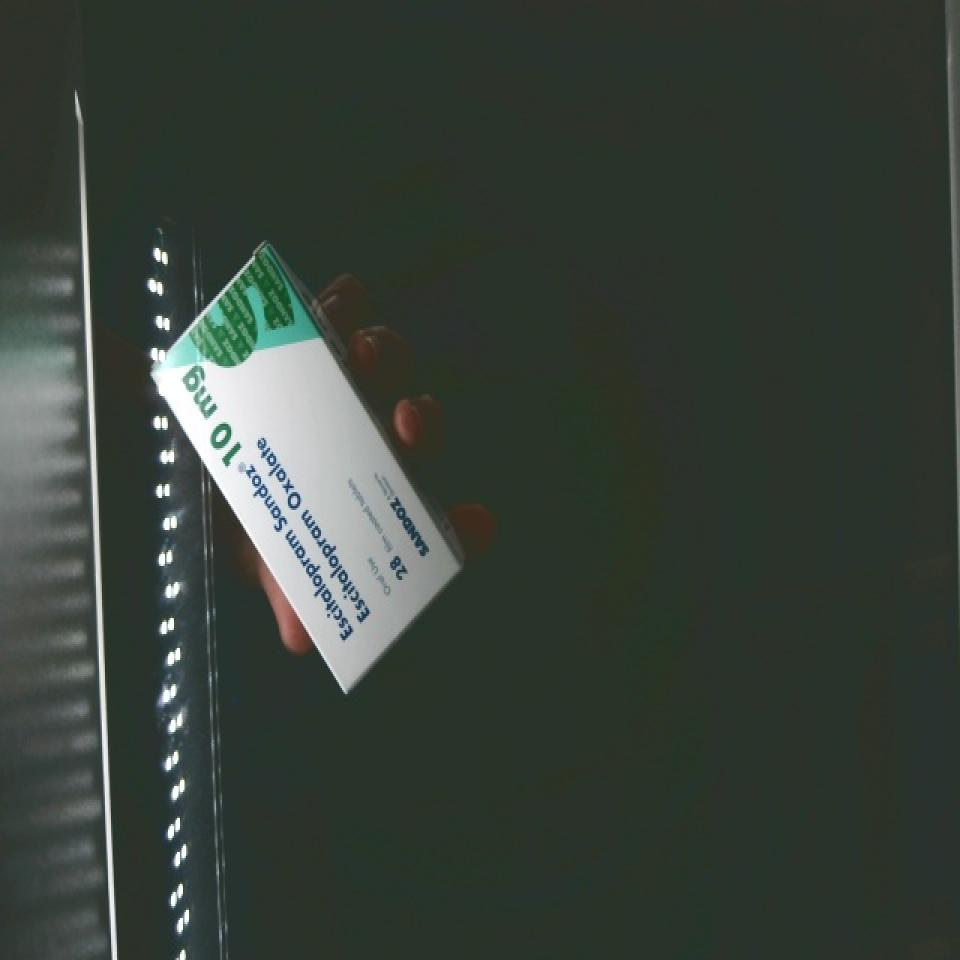medicine_box: (121, 247, 489, 693)
medicine_label_obb: (209, 415, 409, 677)
